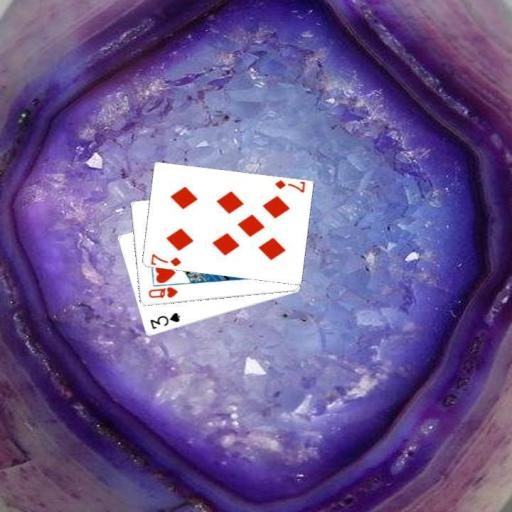3S: (147, 309, 182, 331)
7D: (148, 251, 183, 268), (272, 178, 306, 195)
QH: (145, 284, 179, 300)
